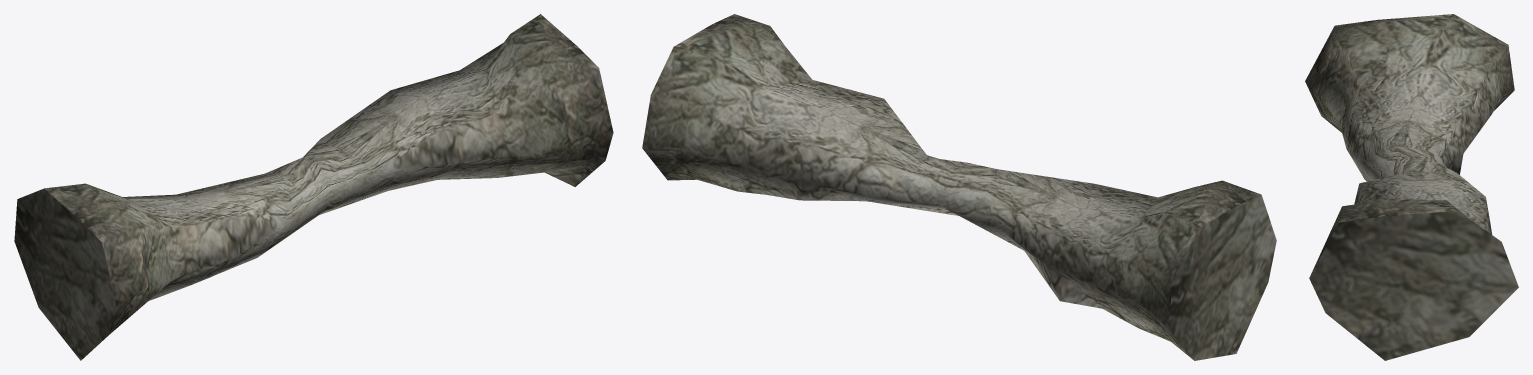
File: DN_lv3_hd_stone05.FBX
3 views of the same model, side by side, from view 1: azimuth 30°, elevation 25°; view 2: azimuth 150°, elevation 25°; view 3: azimuth 270°, elevation 25° (orthographic). The views are drawn at different scales.
Visible parts, largest first — view 1: DN_lv3_hd_stone05; view 2: DN_lv3_hd_stone05; view 3: DN_lv3_hd_stone05.
Boxes of the visible parts, box(x1,y1,x2,y2) form: DN_lv3_hd_stone05: box(14, 14, 613, 360); DN_lv3_hd_stone05: box(642, 14, 1276, 360); DN_lv3_hd_stone05: box(1305, 14, 1518, 360).
Bounding box in the file's own units: 2260 × 857 × 818.
